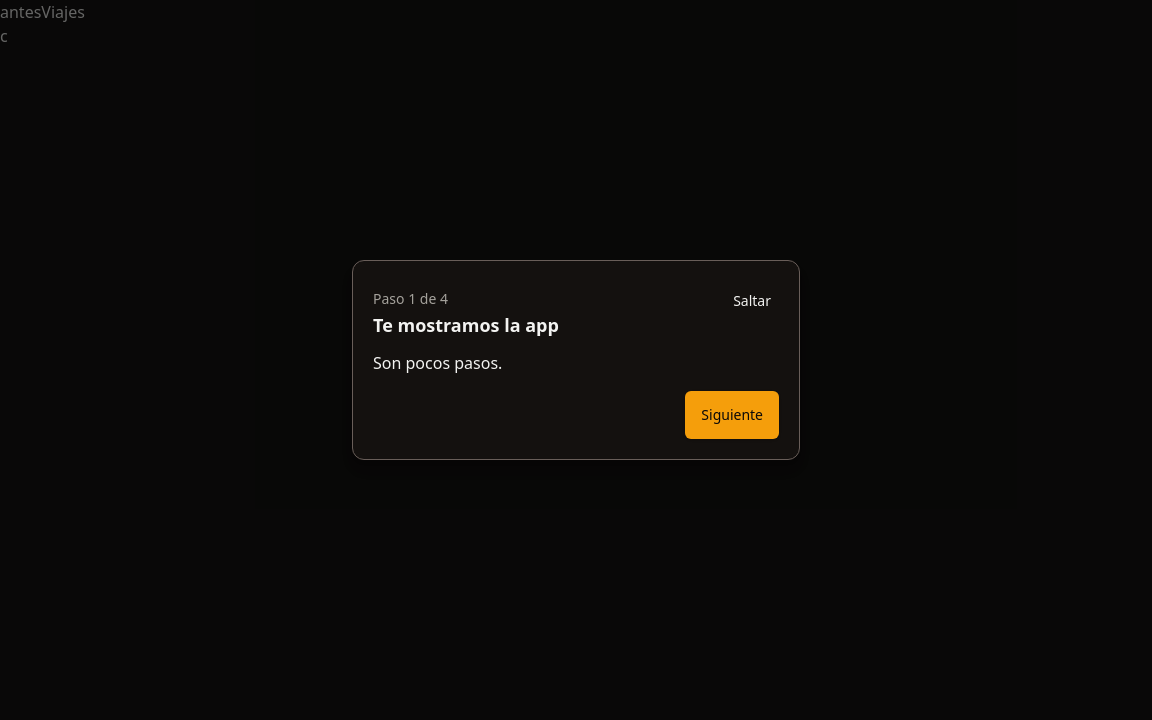
Test case: TourAyuda: objetivos › objetivo que no aparece: con siFalta "centrado" se muestra igual, sin aro
The image size is (1152, 720).
Expected: the dialog shows "Paso 1 de 4", [373,289,448,308]
Click the button "Siguiente". click: (732, 415)
box: [685,391,779,439]
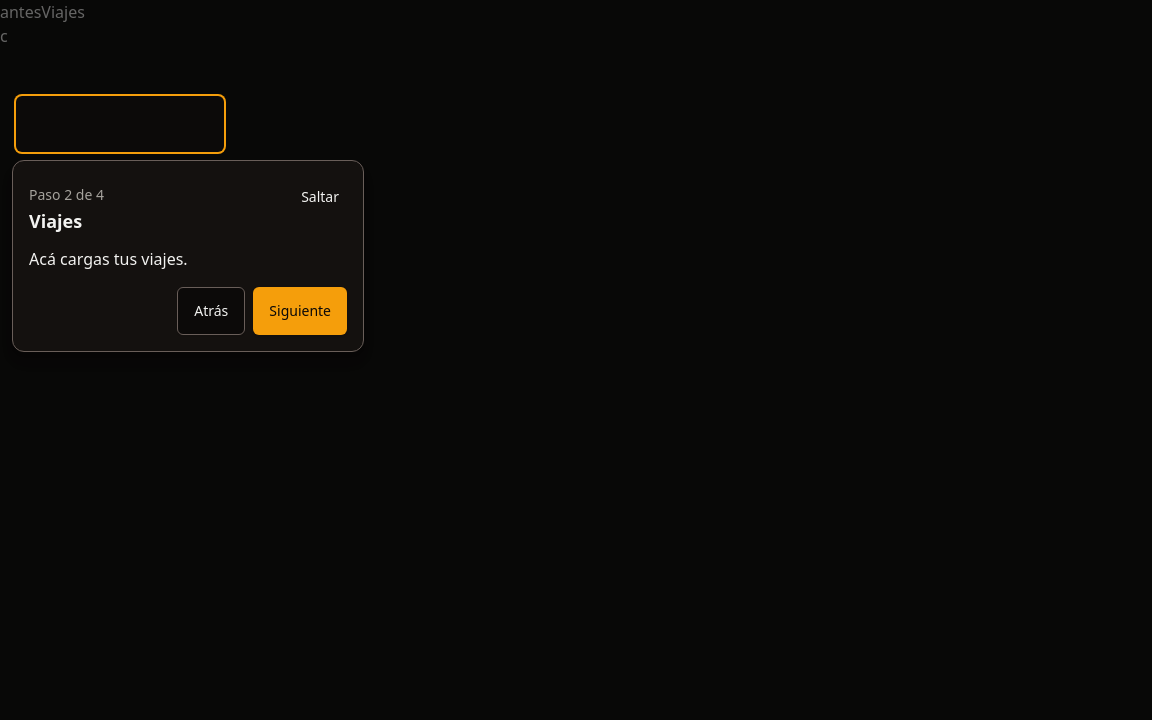
Click the button "Siguiente". click: (300, 311)
box: [253,287,347,335]
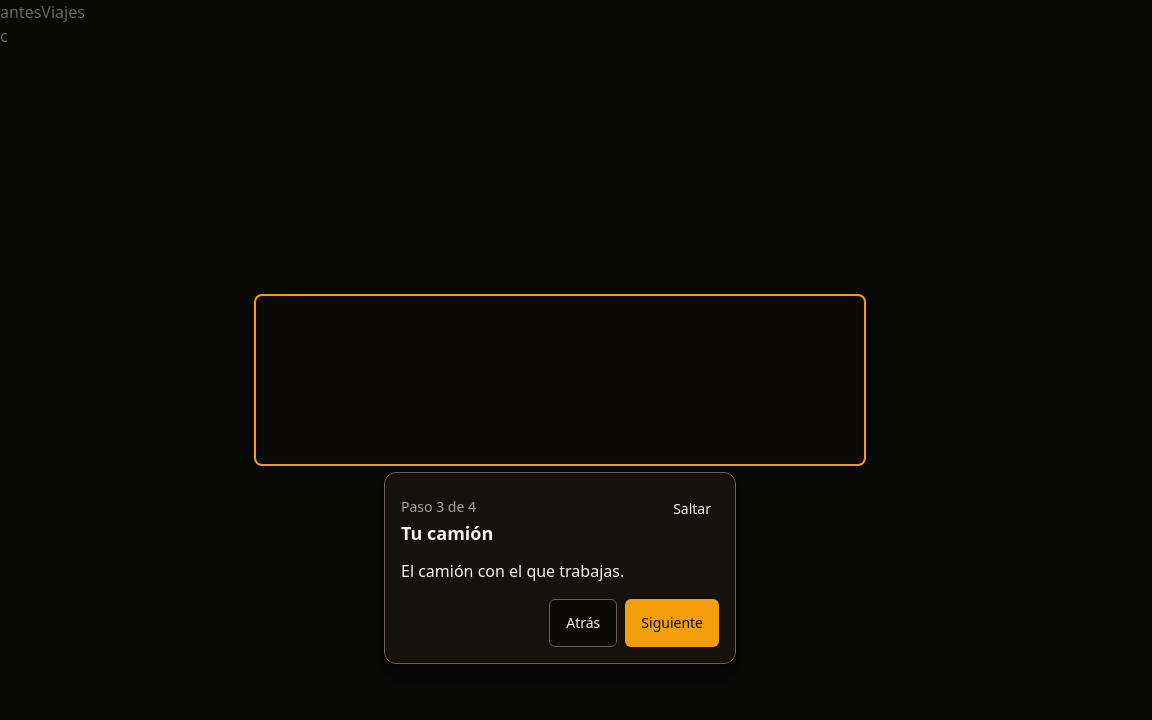
Click the button "Siguiente". click: (672, 623)
box: [625,599,719,647]
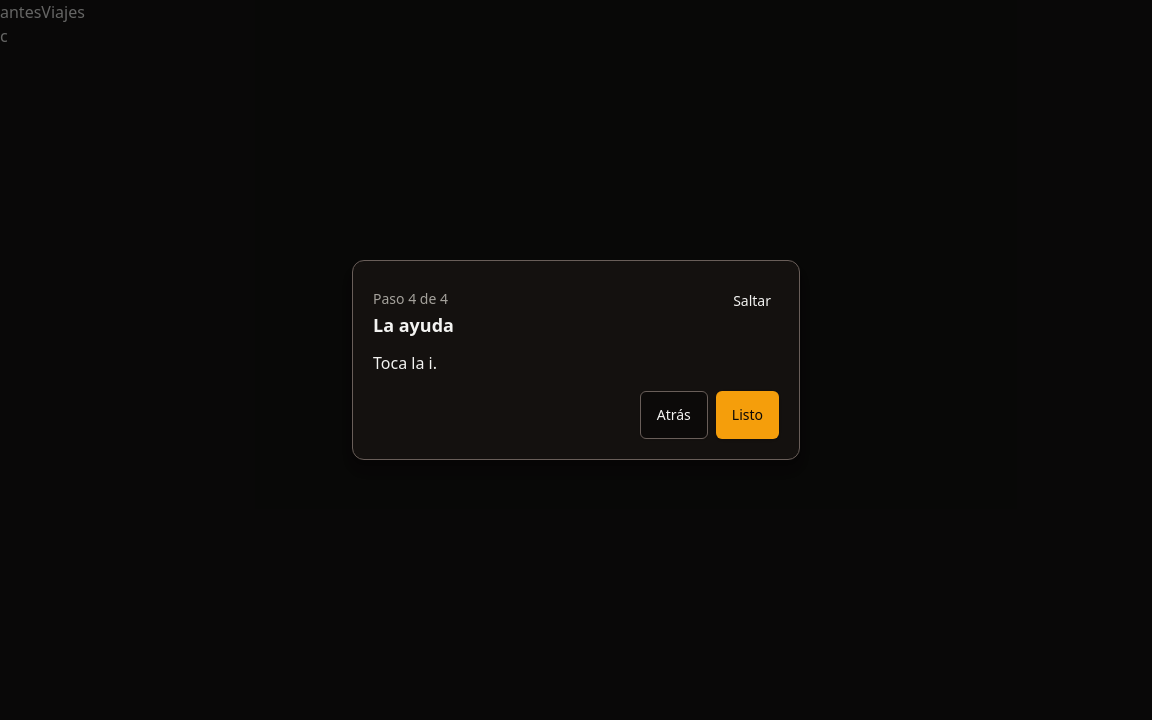
Result: the heading "La ayuda" is shown at [373,311,454,339]
